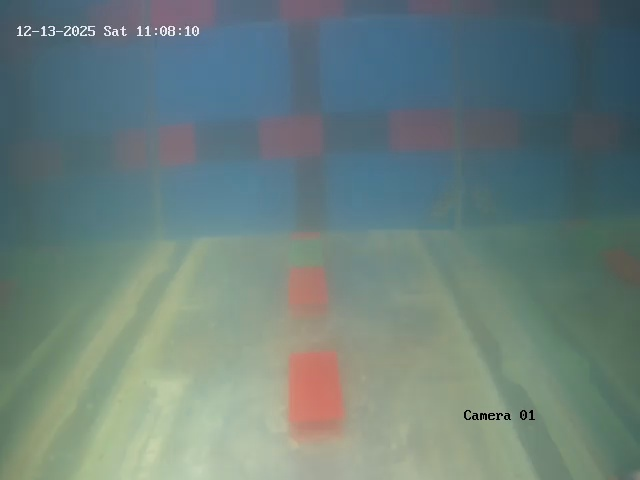fish: (427, 189, 462, 219)
